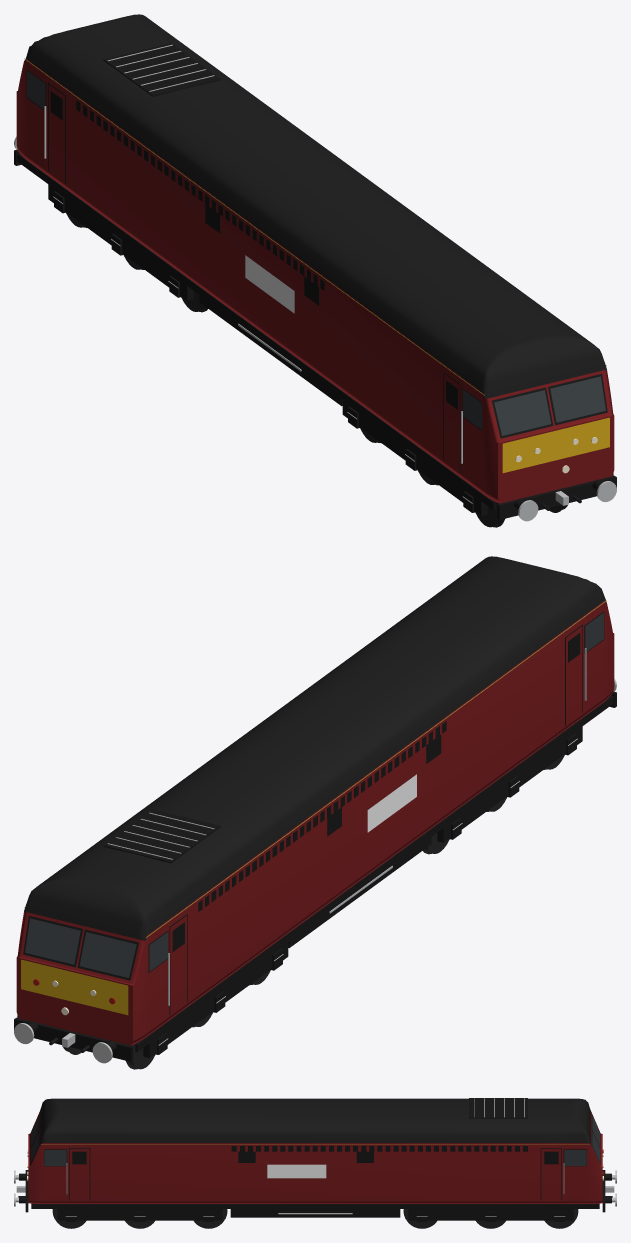
File: diesel47_lod0.glb
3 views of the same model, one above another, from view 1: azimuth 30°, elevation 25°; view 2: azimuth 150°, elevation 25°; view 3: azimuth 270°, elevation 25° (orthographic). The views are drawn at different scales.
Visible parts, largest first — view 1: diesel47_static_roof_black, diesel47_static_coach_maroon, diesel47_static_underframe, diesel47_static_glass, diesel47_static_axle_yellow, diesel47_static_steel, diesel47_static_decal_wcr47, diesel47_static_lining_gold; view 2: diesel47_static_roof_black, diesel47_static_coach_maroon, diesel47_static_underframe, diesel47_static_glass, diesel47_static_axle_yellow, diesel47_static_steel, diesel47_static_decal_wcr47, diesel47_static_lining_gold; view 3: diesel47_static_coach_maroon, diesel47_static_roof_black, diesel47_static_underframe, diesel47_static_glass, diesel47_static_decal_wcr47, diesel47_static_steel, diesel47_static_lining_gold, dws_0_wheel, dws_2_wheel, dws_3_wheel, dws_5_wheel.
Boxes of the visible parts, x1,y1,x2,y2 form: diesel47_static_roof_black: [26, 14, 606, 398]; diesel47_static_coach_maroon: [16, 58, 614, 503]; diesel47_static_underframe: [14, 43, 616, 519]; diesel47_static_glass: [27, 71, 605, 435]; diesel47_static_axle_yellow: [502, 417, 609, 473]; diesel47_static_steel: [14, 44, 616, 521]; diesel47_static_decal_wcr47: [245, 255, 294, 313]; diesel47_static_lining_gold: [24, 58, 606, 395]; diesel47_static_roof_black: [24, 556, 606, 940]; diesel47_static_coach_maroon: [16, 600, 614, 1045]; diesel47_static_underframe: [14, 611, 616, 1061]; diesel47_static_glass: [25, 613, 603, 977]; diesel47_static_axle_yellow: [21, 959, 128, 1015]; diesel47_static_steel: [14, 648, 616, 1063]; diesel47_static_decal_wcr47: [367, 774, 416, 832]; diesel47_static_lining_gold: [24, 600, 606, 937]; diesel47_static_coach_maroon: [28, 1111, 602, 1203]; diesel47_static_roof_black: [40, 1098, 590, 1145]; diesel47_static_underframe: [19, 1098, 611, 1221]; diesel47_static_glass: [31, 1117, 599, 1165]; diesel47_static_decal_wcr47: [267, 1164, 326, 1178]; diesel47_static_steel: [14, 1098, 616, 1216]; diesel47_static_lining_gold: [41, 1108, 590, 1144]; dws_0_wheel: [194, 1209, 227, 1228]; dws_2_wheel: [52, 1209, 86, 1228]; dws_3_wheel: [544, 1209, 578, 1228]; dws_5_wheel: [403, 1209, 436, 1228].
Bounding box in the file's own units: 2.77 × 3.96 × 19.38.
